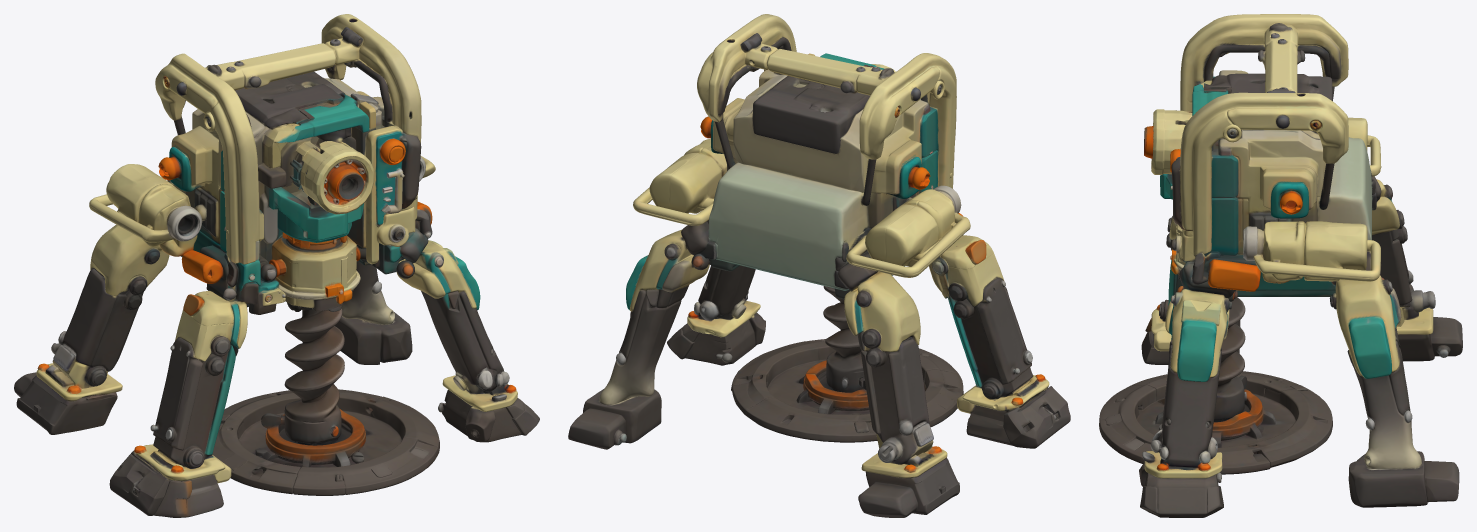
The model's file is miner_alt3.glb.
The picture shows the model from 3 angles, left to right: view 1: azimuth 30°, elevation 25°; view 2: azimuth 150°, elevation 25°; view 3: azimuth 270°, elevation 25°; orthographic projection. The views are drawn at different scales.
Parts seen in each view (by area): view 1: tripo_node_0f65828d-97f3-4475-b539-36e6482bb481; view 2: tripo_node_0f65828d-97f3-4475-b539-36e6482bb481; view 3: tripo_node_0f65828d-97f3-4475-b539-36e6482bb481.
Boxes of the visible parts, x1,y1,x2,y2 form: tripo_node_0f65828d-97f3-4475-b539-36e6482bb481: [14, 14, 539, 517]; tripo_node_0f65828d-97f3-4475-b539-36e6482bb481: [568, 14, 1070, 517]; tripo_node_0f65828d-97f3-4475-b539-36e6482bb481: [1099, 14, 1462, 517].
Bounding box in the file's own units: 0.9788 × 0.9024 × 0.8015.
Materials: 1 (1 with a texture image).
